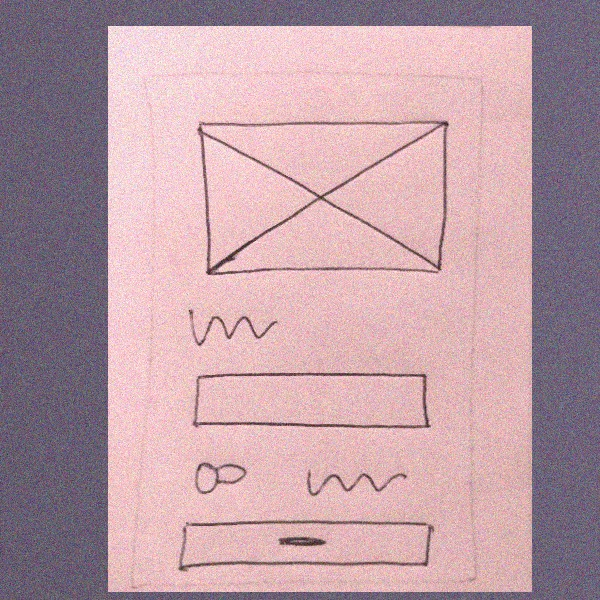button: (172, 514, 438, 577)
image: (189, 113, 456, 290)
switch: (188, 457, 252, 501)
text: (293, 459, 409, 507), (183, 305, 284, 359)
text_input: (184, 367, 436, 440)
